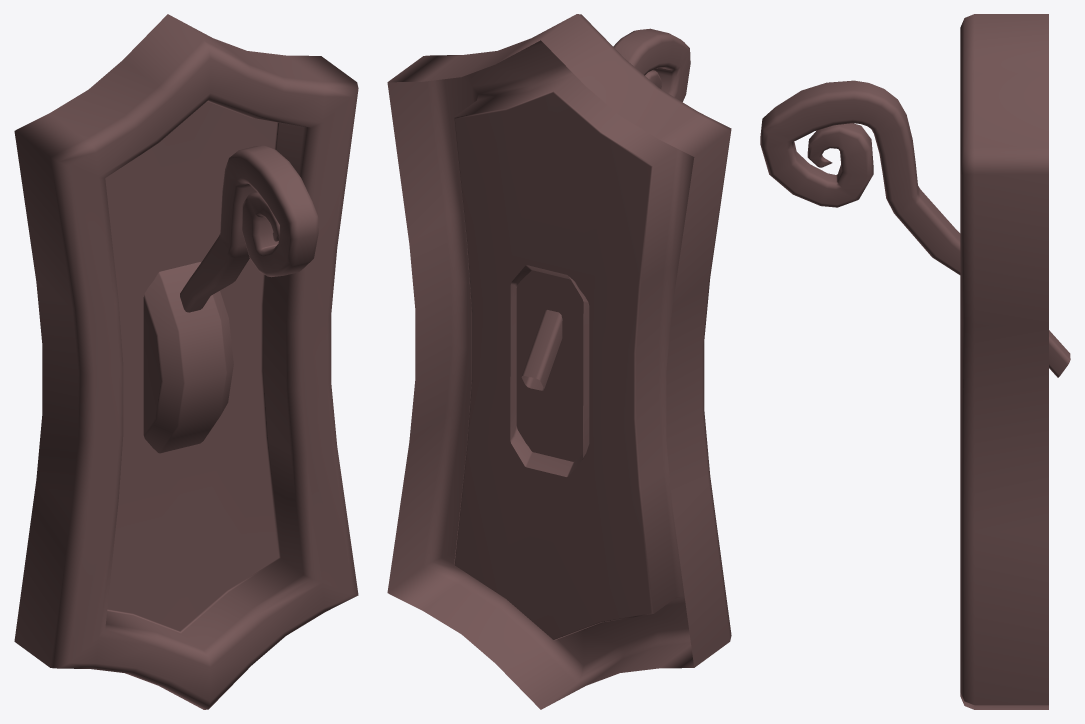
File: lever.fbx
3 views of the same model, side by side, from view 1: azimuth 30°, elevation 25°; view 2: azimuth 150°, elevation 25°; view 3: azimuth 270°, elevation 25° (orthographic). The views are drawn at different scales.
Visible parts, largest first — view 1: polySurface4, polySurface3; view 2: polySurface4, polySurface3; view 3: polySurface4, polySurface3.
Boxes of the visible parts, x1,y1,x2,y2 form: polySurface4: (14,14,358,709); polySurface3: (180,145,318,312); polySurface4: (387,14,731,709); polySurface3: (521,28,690,390); polySurface4: (960,14,1048,709); polySurface3: (760,80,1070,377).
Bounding box in the file's own units: 76.3 × 159 × 64.25.
